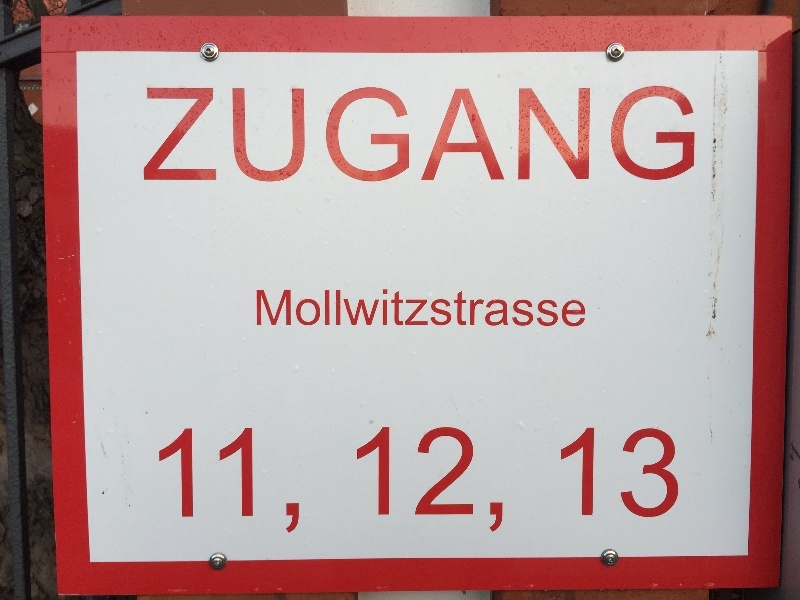text: (497, 428, 513, 537), (369, 428, 384, 537), (385, 428, 400, 537), (401, 428, 416, 537), (417, 428, 432, 537), (433, 428, 448, 537), (449, 428, 464, 537), (465, 428, 480, 537), (481, 428, 496, 537), (161, 427, 176, 534), (177, 427, 192, 534), (193, 427, 208, 534), (209, 427, 224, 534), (225, 427, 240, 534), (241, 427, 256, 534), (257, 427, 272, 534), (273, 427, 288, 534), (289, 427, 303, 534), (161, 88, 176, 183), (177, 88, 192, 183), (193, 88, 208, 183), (209, 88, 224, 183), (225, 88, 240, 183), (241, 88, 256, 183), (257, 88, 272, 183), (273, 88, 288, 183), (289, 88, 304, 183), (305, 88, 320, 183), (321, 88, 336, 183), (337, 88, 352, 183), (353, 88, 368, 183), (369, 88, 384, 183), (385, 88, 400, 183), (401, 88, 416, 183), (417, 88, 432, 183), (433, 88, 448, 183), (449, 88, 464, 183), (465, 88, 480, 183), (481, 88, 496, 183), (497, 88, 512, 183), (513, 88, 528, 183), (529, 88, 544, 183), (545, 88, 560, 183), (561, 88, 576, 183), (577, 88, 592, 183), (593, 88, 608, 183), (609, 88, 624, 183), (625, 88, 640, 183), (641, 88, 656, 183), (657, 88, 672, 183), (673, 88, 688, 183), (561, 427, 576, 520), (577, 427, 592, 520), (593, 427, 608, 520), (609, 427, 624, 520), (625, 427, 640, 520), (641, 427, 656, 520), (657, 427, 672, 520), (356, 428, 368, 537), (147, 88, 160, 183), (689, 88, 697, 183), (257, 290, 272, 329), (273, 290, 288, 329), (289, 290, 304, 329), (305, 290, 320, 329), (321, 290, 336, 329), (337, 290, 352, 329), (353, 290, 368, 329), (369, 290, 384, 329), (385, 290, 400, 329), (401, 290, 416, 329), (417, 290, 432, 329), (433, 290, 448, 329), (449, 290, 464, 329), (465, 290, 480, 329), (481, 290, 496, 329), (497, 290, 512, 329), (513, 290, 528, 329), (529, 290, 544, 329), (545, 290, 560, 329), (561, 290, 576, 329), (673, 427, 679, 520), (577, 290, 587, 329), (557, 427, 560, 520), (159, 427, 160, 534)
